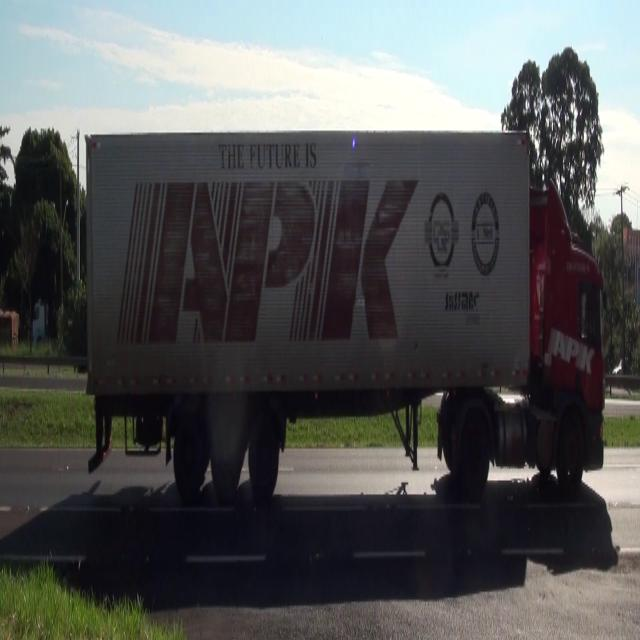-axle: (459, 406, 491, 504), (210, 411, 242, 508), (248, 407, 280, 500), (173, 414, 205, 506), (556, 412, 584, 504)
